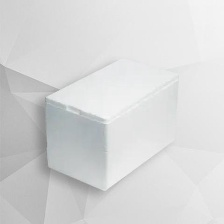foam_box: (37, 54, 182, 194)
